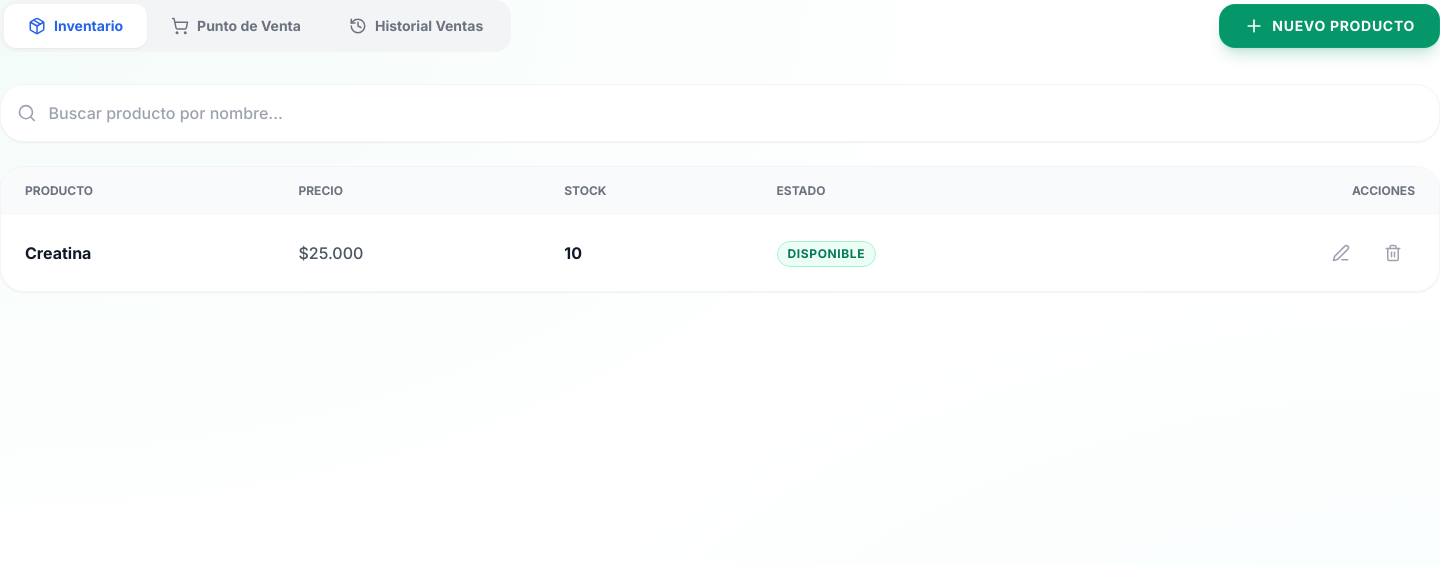
Test: ProductsPage - montos en formato argentino (spec 0009) › AC-0009-09: la tarjeta del punto de venta muestra $25.000, y con 2 unidades la línea dice "2 x $25.000" y el total $50.000
Click the button "Punto de Venta". click: (236, 26)
box: [147,4,325,48]
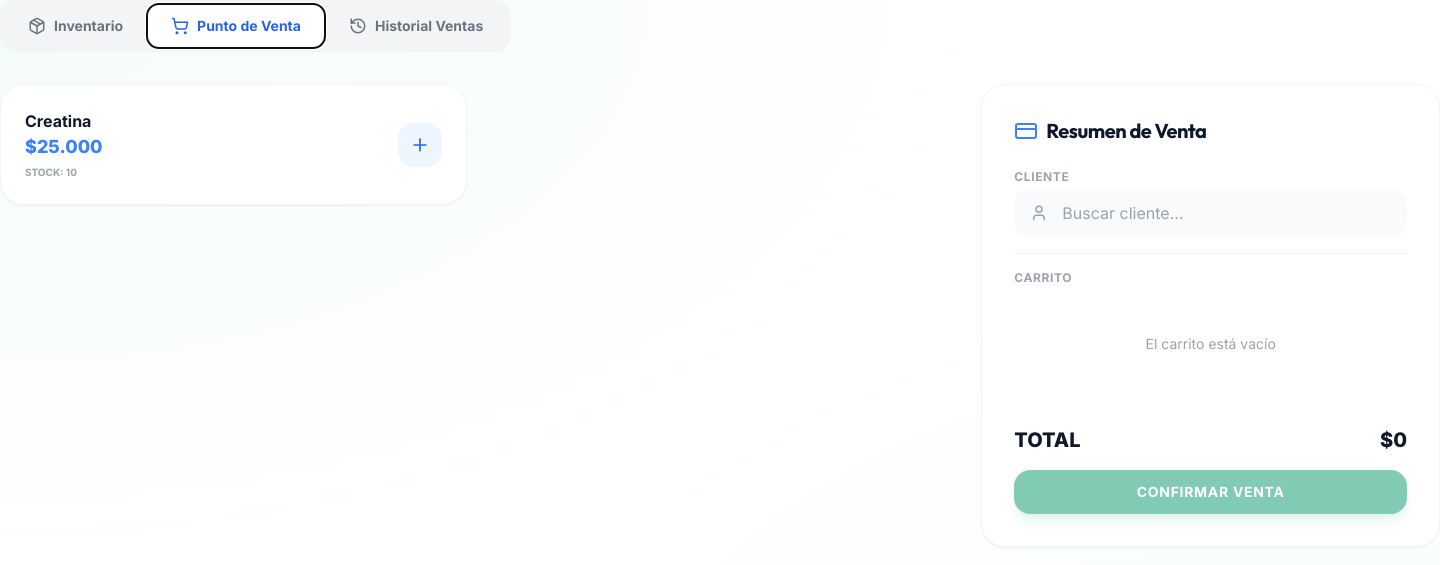
Result: the button "Creatina $25.000 Stock: 10" is shown
Click the button "Creatina $25.000 Stock: 10". click: (58, 121)
box: [0,84,467,205]
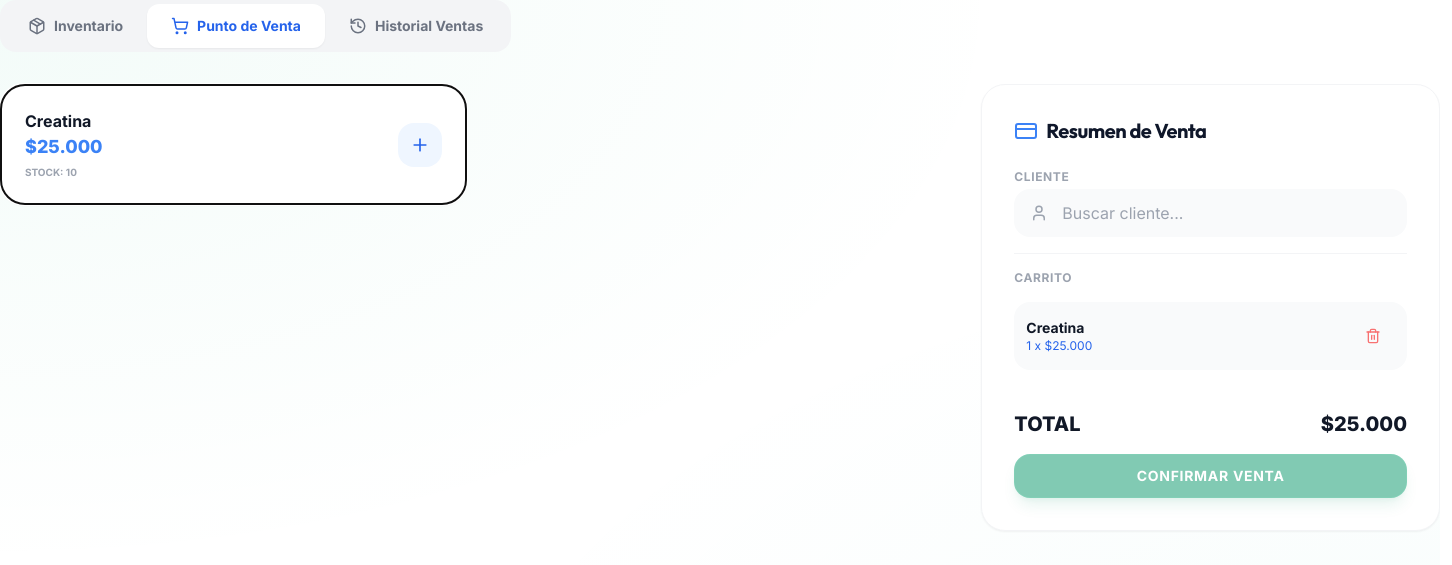
Click the button "Creatina $25.000 Stock: 10". click: (58, 121)
box: [0,84,467,205]
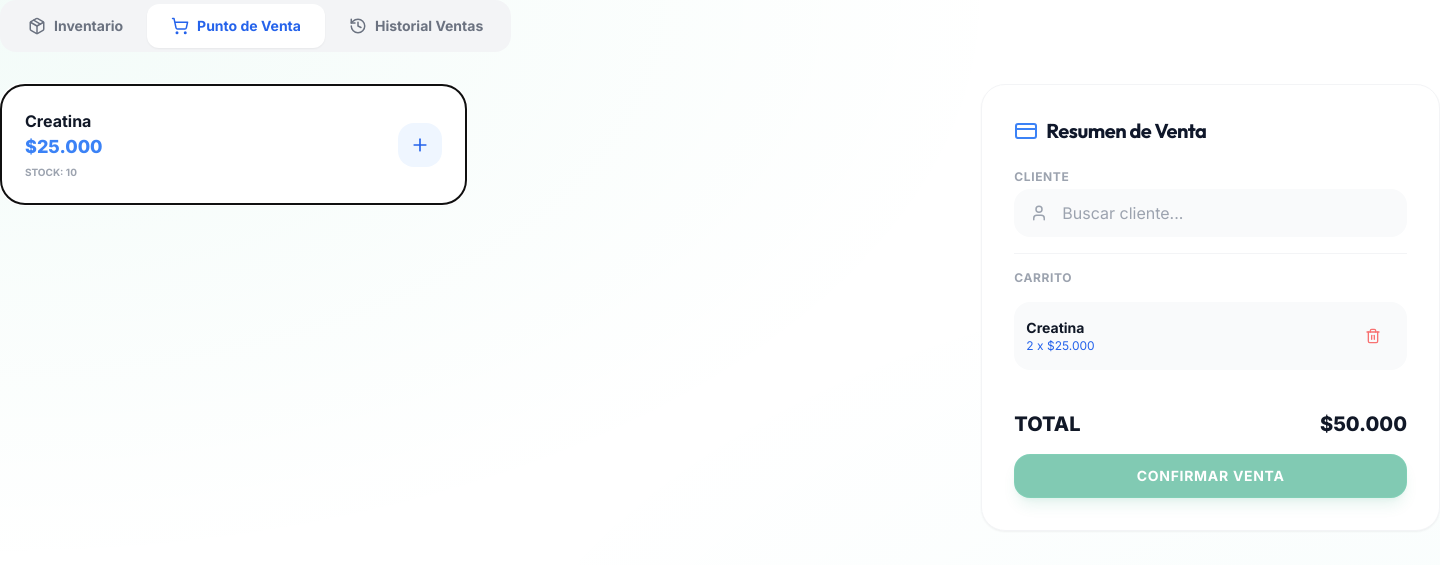
Result: the text "2 x $25.000" is shown at [1026,338,1095,354]
Result: the text "$50.000" is shown at [1320,410,1407,438]
